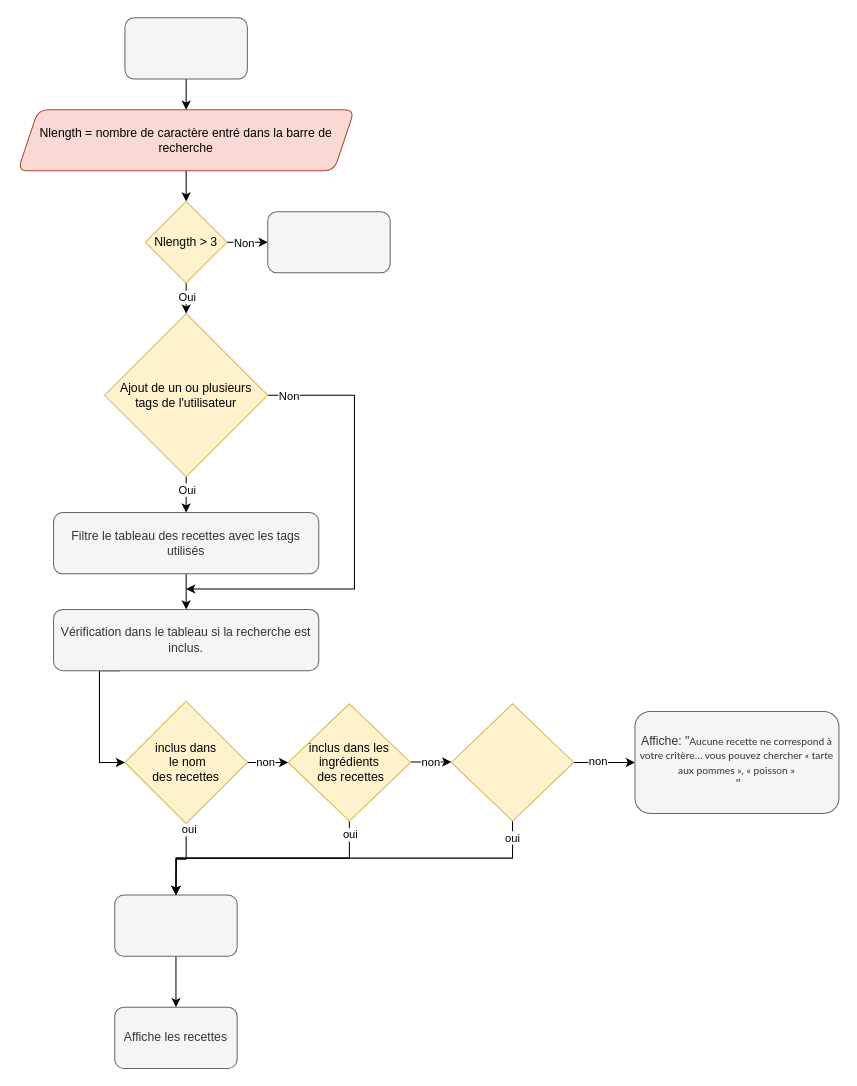
Image size: 857x1086. Some labels were removed from this diagram. Each missing label, with the box of its shape:
ajout des recettes dans un tableau: (114, 894, 237, 956)
inclus dans les ustensiles des recettes: (450, 703, 574, 821)
L'interface ne change pas: (267, 211, 390, 273)
Recherche de l'utilisateur: (124, 17, 247, 79)
